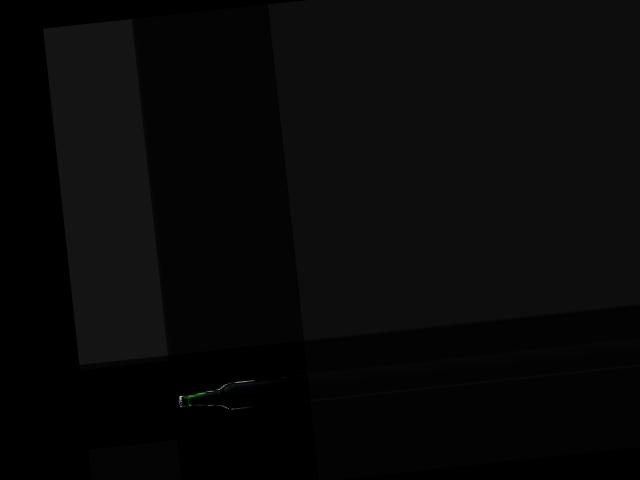beer: (177, 374, 291, 415)
